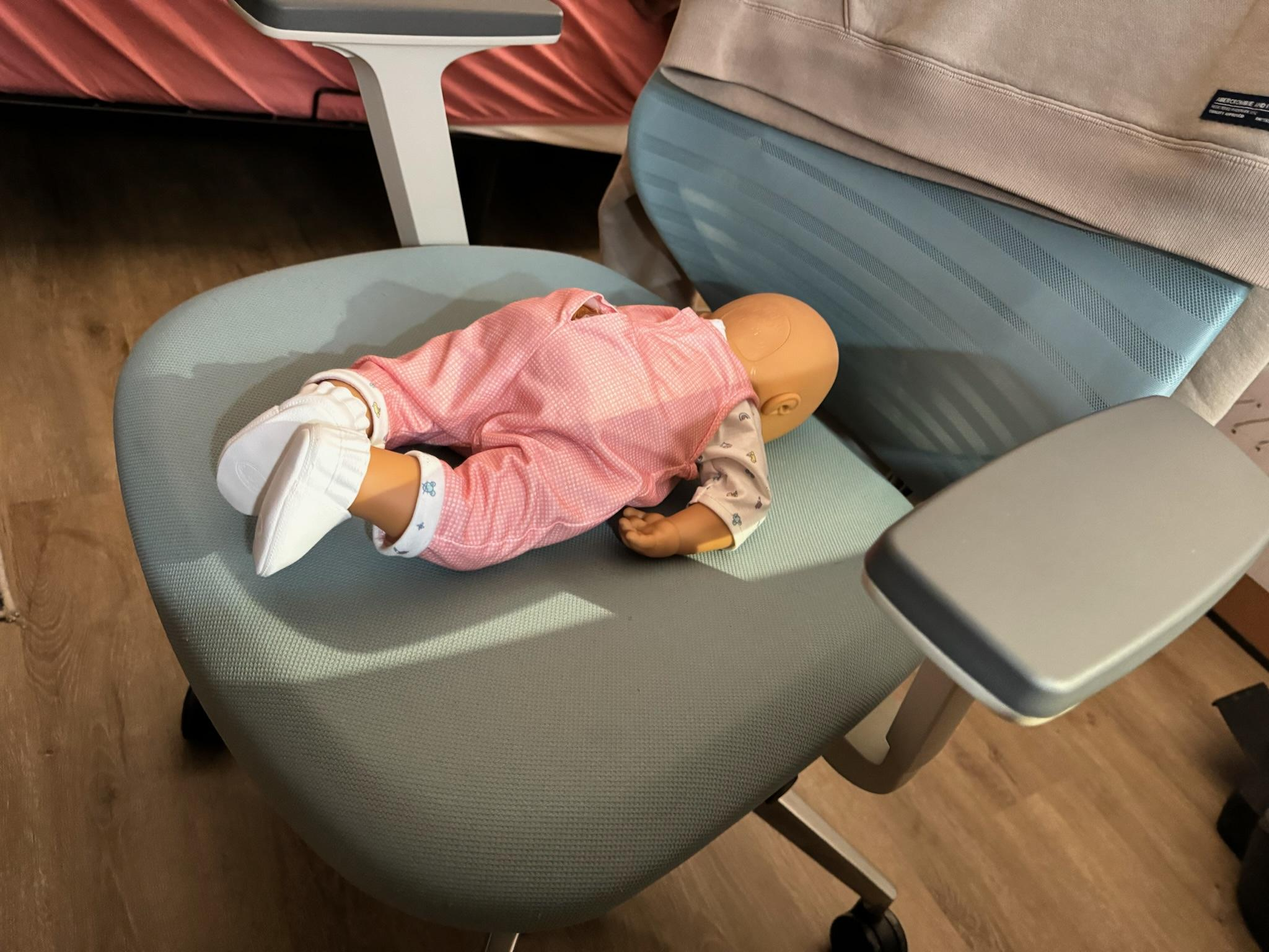baby: (187, 271, 867, 578)
